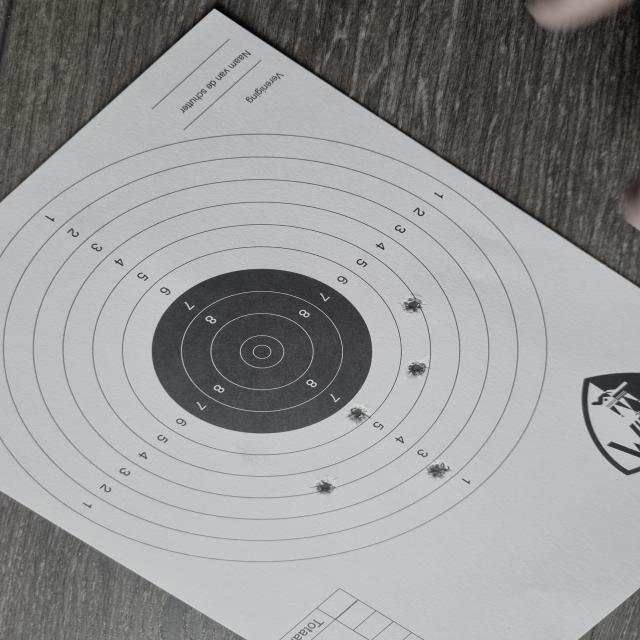2: (427, 464, 452, 478)
4: (310, 480, 338, 496)
5: (400, 296, 428, 314), (406, 361, 431, 377)
6: (345, 407, 372, 425)
Target: (0, 132, 548, 566)
black_contour: (151, 269, 373, 434)
